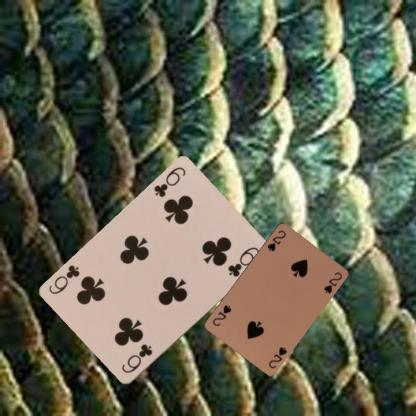2s: (266, 344, 288, 370), (265, 228, 287, 252)
6c: (151, 164, 187, 199), (119, 341, 154, 375)
